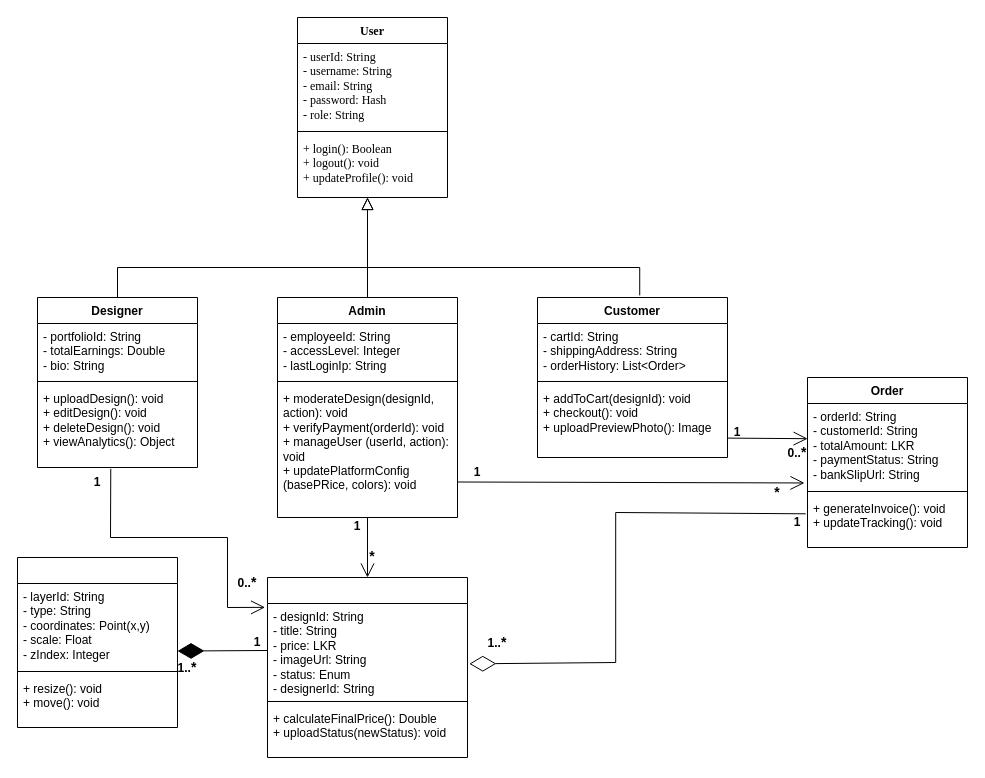
Image size: 985x778. Some labels were removed from this diagram. Here are the shapes that lost their labels. From the top down, the box of each, then its label:
(16, 556, 178, 728): Design Layer
(266, 576, 468, 758): Design/Product
